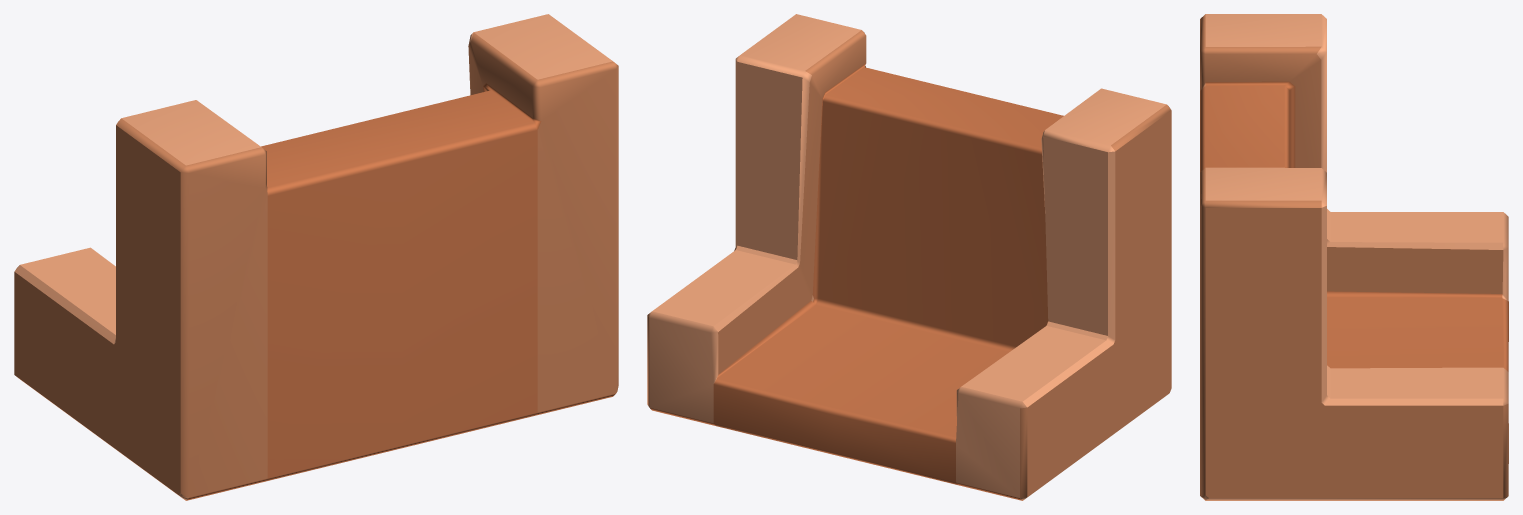
Rendered from shelf2.fbx.
3 views of the same model, side by side, from view 1: azimuth 30°, elevation 25°; view 2: azimuth 150°, elevation 25°; view 3: azimuth 270°, elevation 25° (orthographic). The views are drawn at different scales.
Parts seen in each view (by area): view 1: shelf_2; view 2: shelf_2; view 3: shelf_2.
Part boxes in pixels (left/top/right/bottom): shelf_2: left=14, top=14, right=618, bottom=500; shelf_2: left=647, top=14, right=1171, bottom=500; shelf_2: left=1200, top=14, right=1508, bottom=500.
Bounding box in the file's own units: 165 × 121 × 113.
